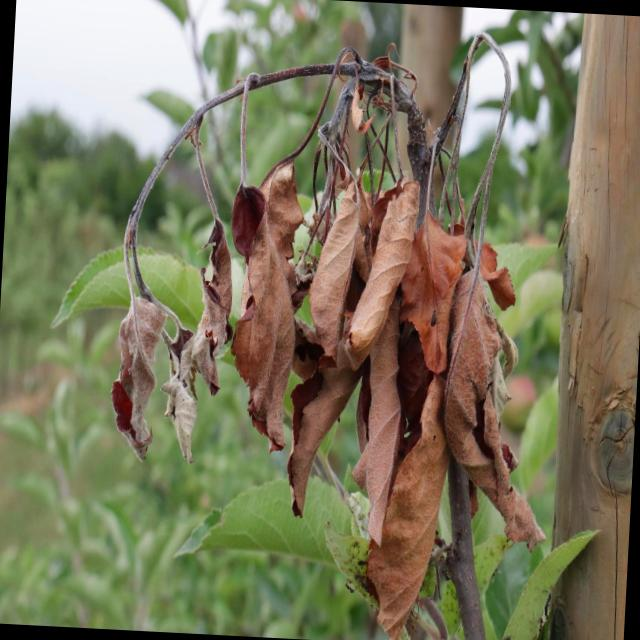-FireBlight-: (76, 63, 557, 606)
